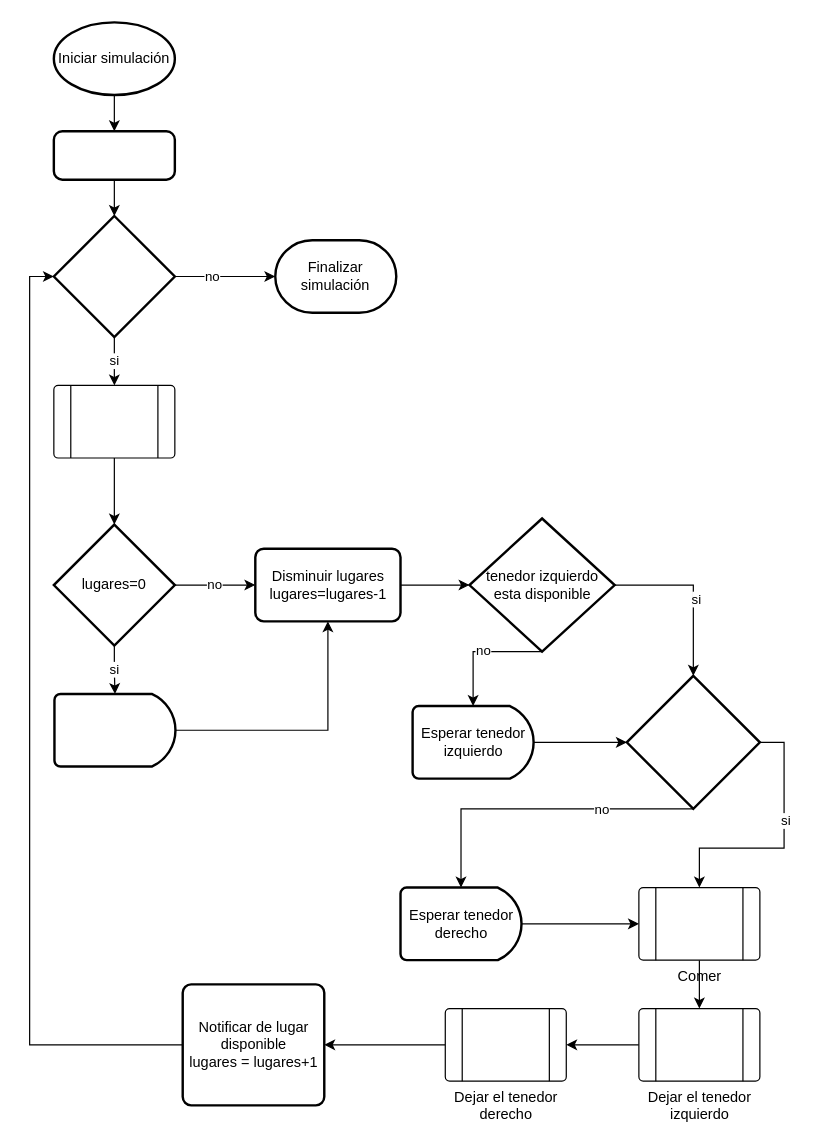
This 816x1145 diagram has some shape labels left out. Here are the shapes that lost their labels. From the top down, the box of each, then its label:
(52, 129, 175, 180): lugares = 4
(52, 214, 175, 338): Se puede iniciar
(53, 384, 175, 458): pensar
(53, 692, 176, 767): Esperar un lugar disponible
(625, 674, 760, 809): Tenedor derecho disponible
